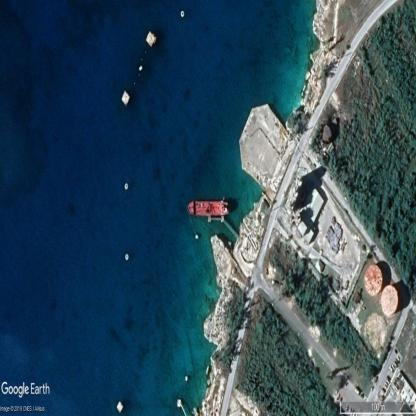ship: (187, 202, 228, 216)
